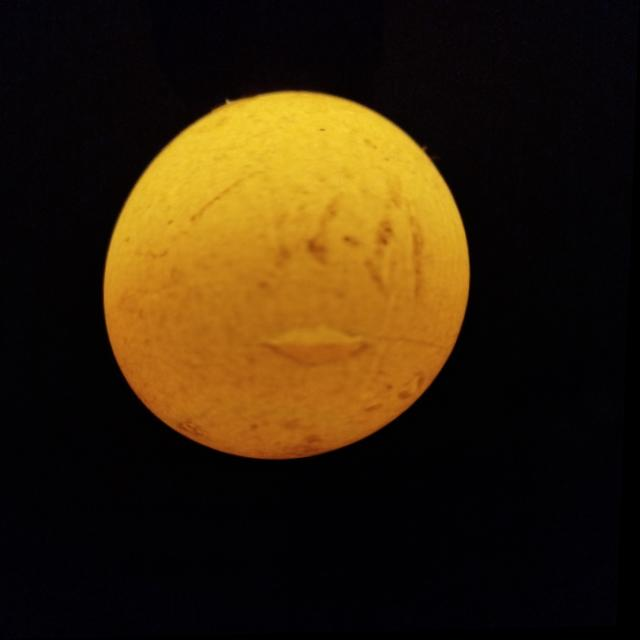Rachadura: (266, 328, 382, 367)
